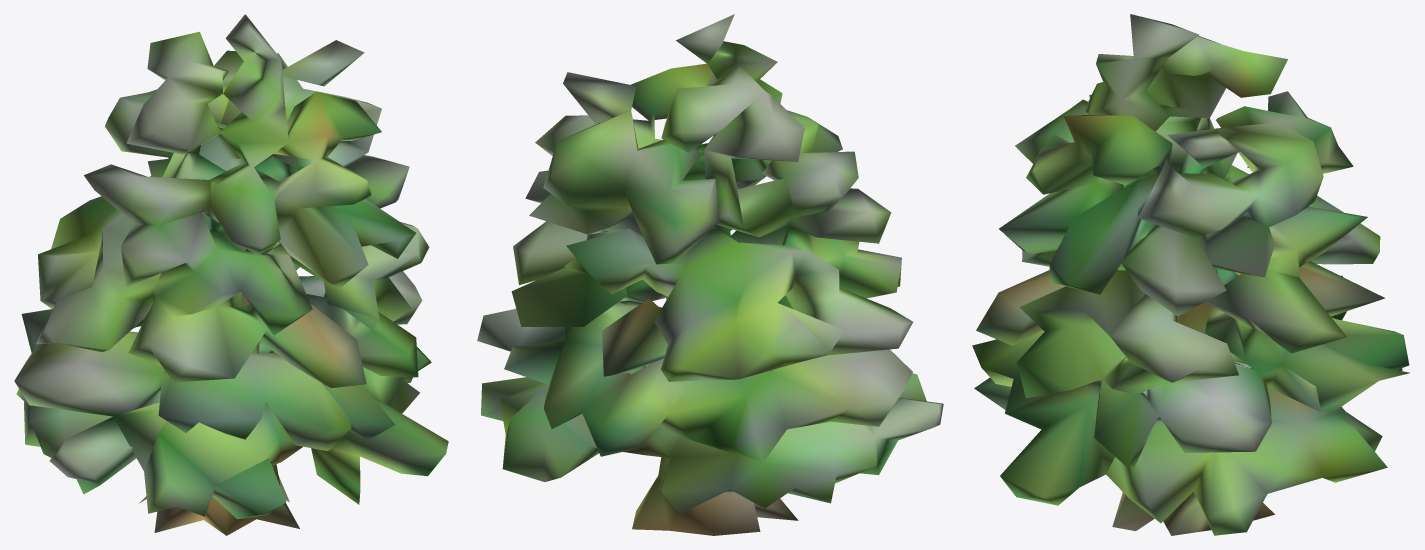
Rendered from cam_hi.glb.
3 views of the same model, side by side, from view 1: azimuth 30°, elevation 25°; view 2: azimuth 150°, elevation 25°; view 3: azimuth 270°, elevation 25° (orthographic). The views are drawn at different scales.
Parts seen in each view (by area): view 1: geometry_0; view 2: geometry_0; view 3: geometry_0.
Part boxes in pixels (<box>): geometry_0: <box>14,14,448,535</box>; geometry_0: <box>477,14,943,535</box>; geometry_0: <box>972,14,1409,535</box>.
Size of the model in its own units: 0.8621 by 1 by 0.7975.
